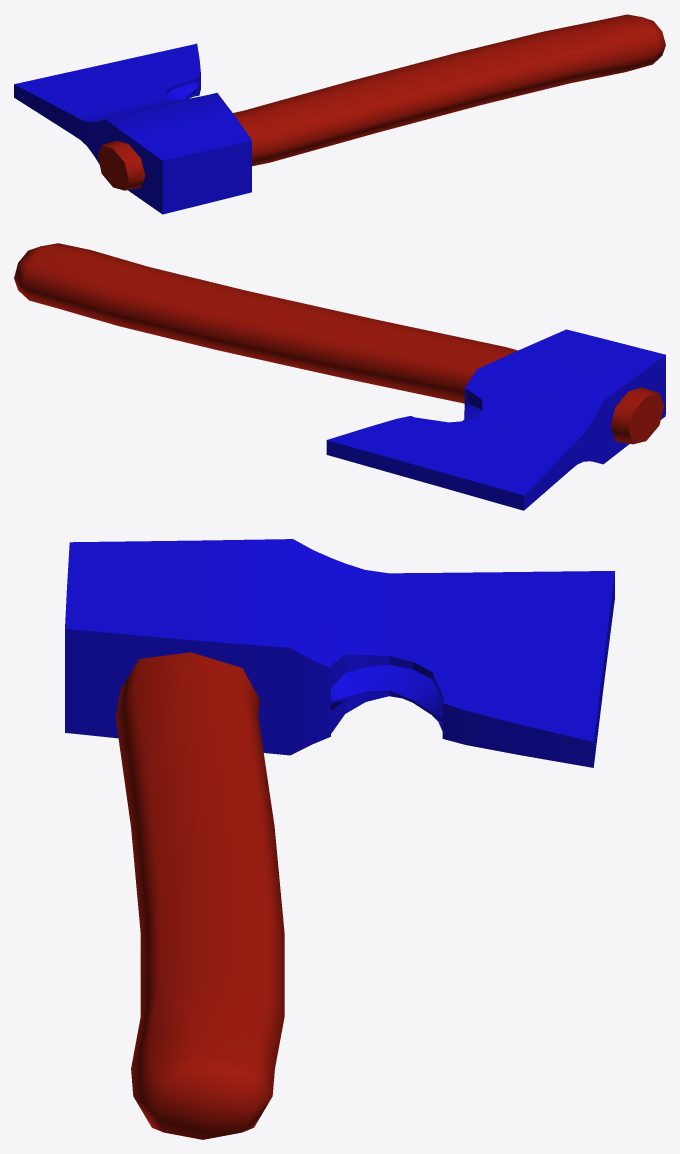
Rendered from ENV_MSC_Hache.fbx.
3 renders of one model, top to bottom at view 1: azimuth 30°, elevation 25°; view 2: azimuth 150°, elevation 25°; view 3: azimuth 270°, elevation 25°, orthographic. The views are drawn at different scales.
Visible parts, largest first — view 1: Plane005; view 2: Plane005; view 3: Plane005.
Boxes of the visible parts, bbox=[...] form: Plane005: bbox=[14, 14, 665, 214]; Plane005: bbox=[14, 243, 665, 510]; Plane005: bbox=[65, 539, 614, 1139].
Size of the model in its own units: 48.49 by 4.76 by 21.3.
